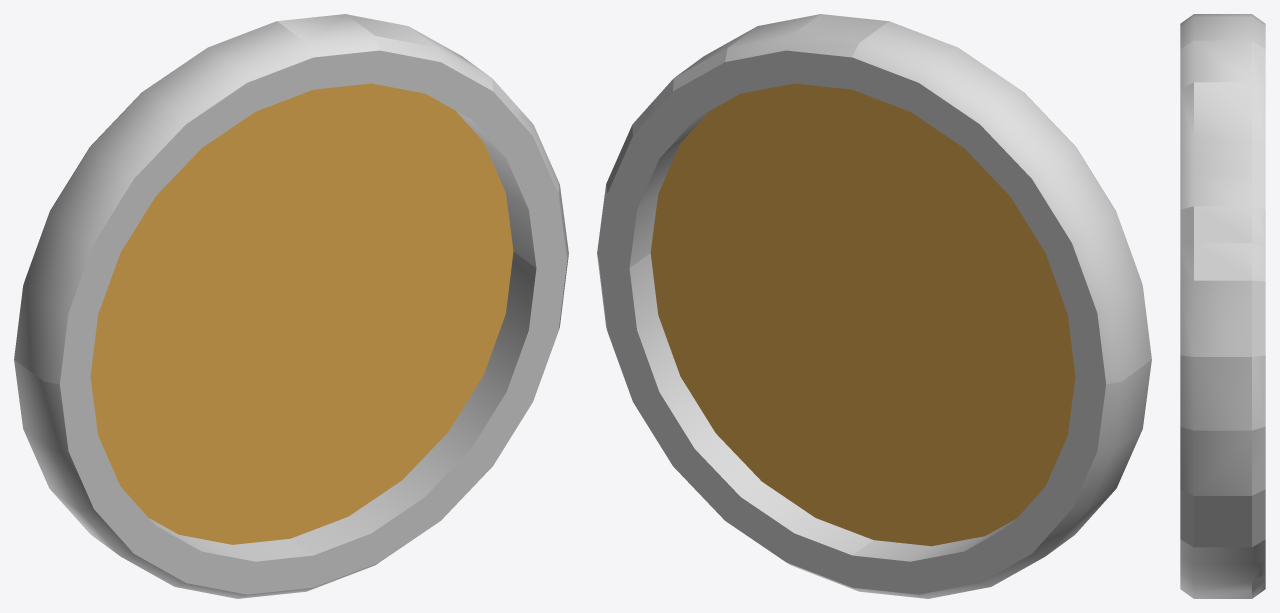
File: GlassPanel_01_100scale.fbx
3 views of the same model, side by side, from view 1: azimuth 30°, elevation 25°; view 2: azimuth 150°, elevation 25°; view 3: azimuth 270°, elevation 25° (orthographic). The views are drawn at different scales.
Visible parts, largest first — view 1: GlassPanel; view 2: GlassPanel; view 3: GlassPanel.
Part boxes in pixels (x1,y1,x2,y2): GlassPanel: (14,14,568,598); GlassPanel: (597,14,1151,598); GlassPanel: (1180,14,1265,598).
Size of the model in its own units: 1.21 by 1.21 by 0.1764.
